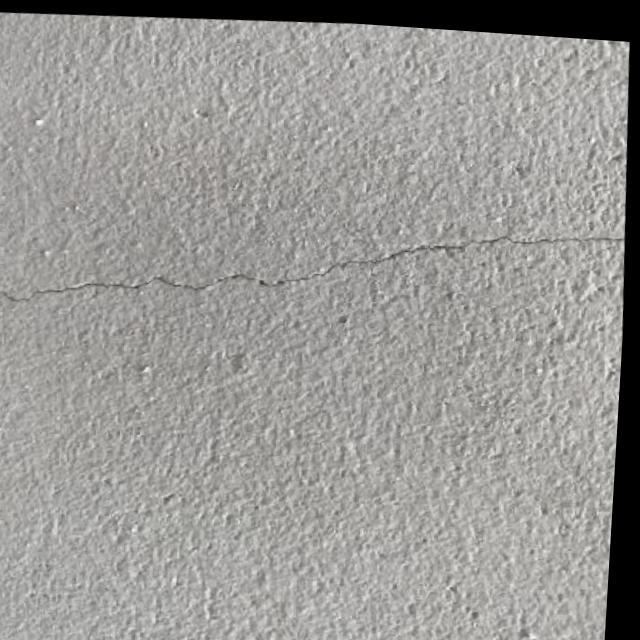Crack: (8, 224, 619, 310)
